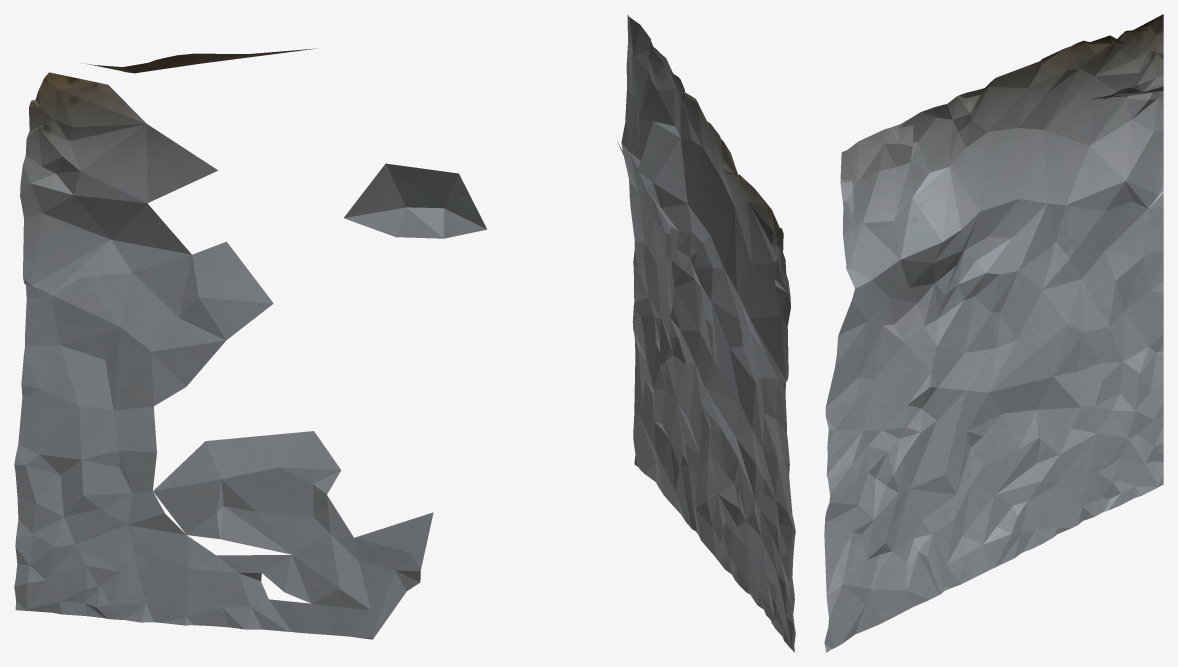
3 renders of one model, left to right at view 1: azimuth 30°, elevation 25°; view 2: azimuth 150°, elevation 25°; view 3: azimuth 270°, elevation 25°, orthographic. The views are drawn at different scales.
Bounding box in the file's own units: 0.6058 × 0.8374 × 0.5142.
2 materials, 2 textured.
